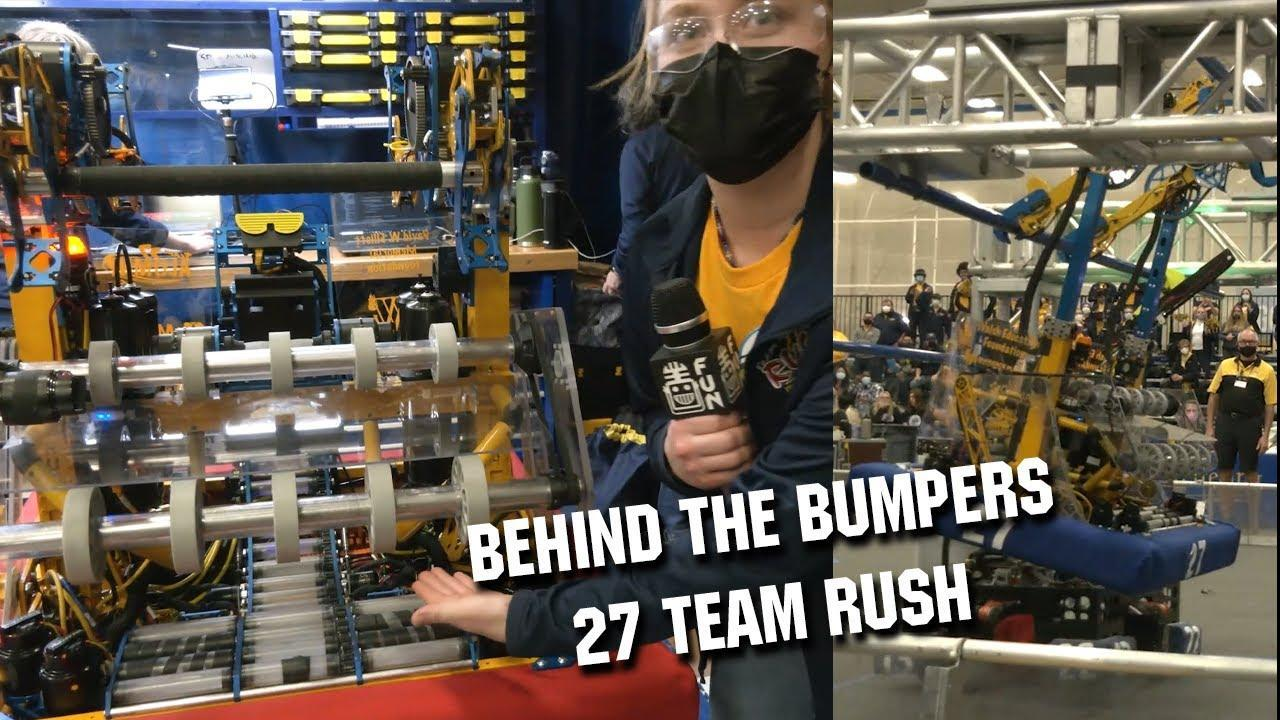robot: (0, 0, 705, 720), (847, 25, 1246, 592), (871, 379, 1212, 689)
